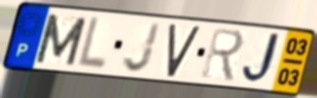J: (240, 31, 286, 86), (121, 20, 163, 74)
L: (74, 15, 109, 73)
M: (32, 12, 90, 68)
R: (199, 26, 246, 85)
V: (165, 23, 203, 79)
